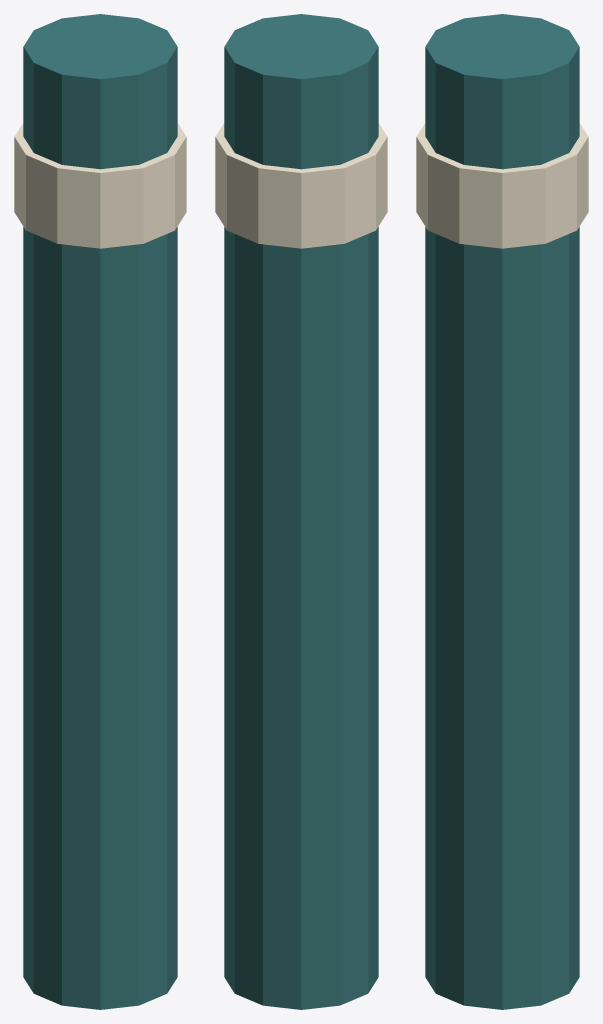
File: park_bollard.glb
3 renders of one model, left to right at view 1: azimuth 30°, elevation 25°; view 2: azimuth 150°, elevation 25°; view 3: azimuth 270°, elevation 25°, orthographic.
Visible parts, largest first — view 1: park_bollard_Mesh; view 2: park_bollard_Mesh; view 3: park_bollard_Mesh.
Part boxes in pixels (box(x1,y1,x2,y2)): park_bollard_Mesh: box(14, 14, 186, 1009); park_bollard_Mesh: box(215, 14, 387, 1009); park_bollard_Mesh: box(416, 14, 588, 1009).
Bounding box in the file's own units: 0.134 × 0.8 × 0.134.
